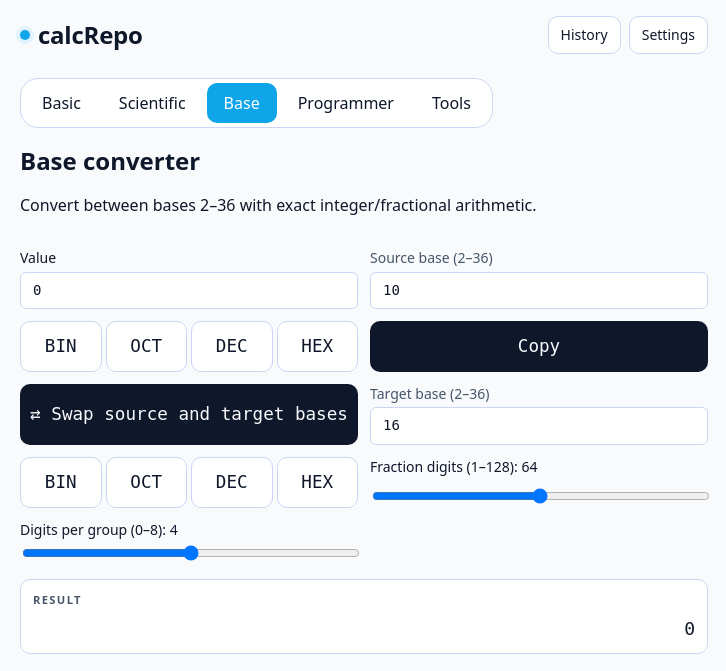
BaseView › swaps source and target bases
Click the tab "Base" at (242, 103), box [207,83,277,123]
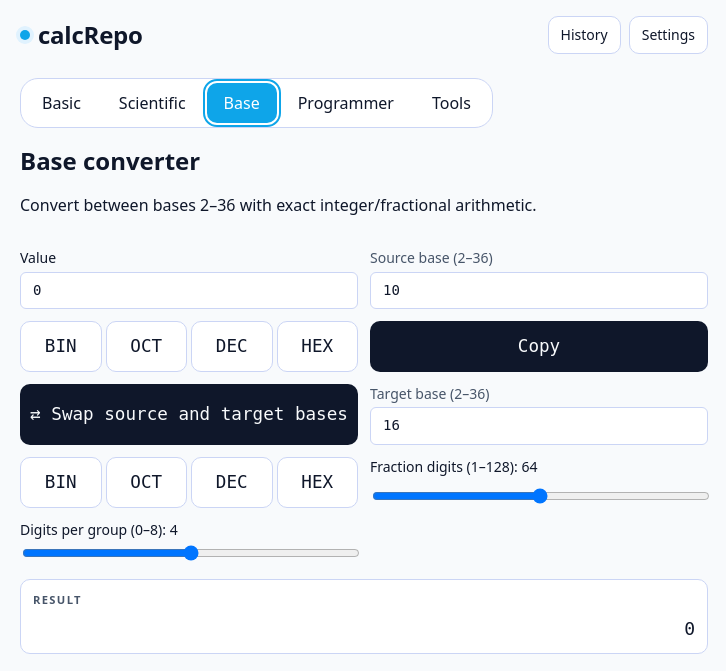
Replace the text in the field with test id "base-input" with "255" at (189, 290), box [20,272,358,309]
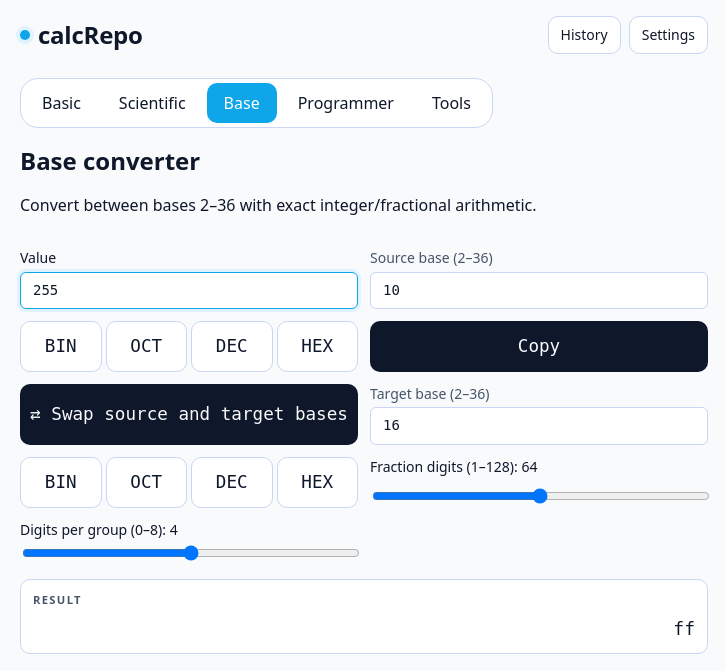
Expected: the field with test id "base-target" holds "16", [370,407,708,445]
Expected: the field with test id "base-source" holds "10", [370,272,708,309]
Click the button with test id "base-swap" at (189, 414), box [20,384,358,445]
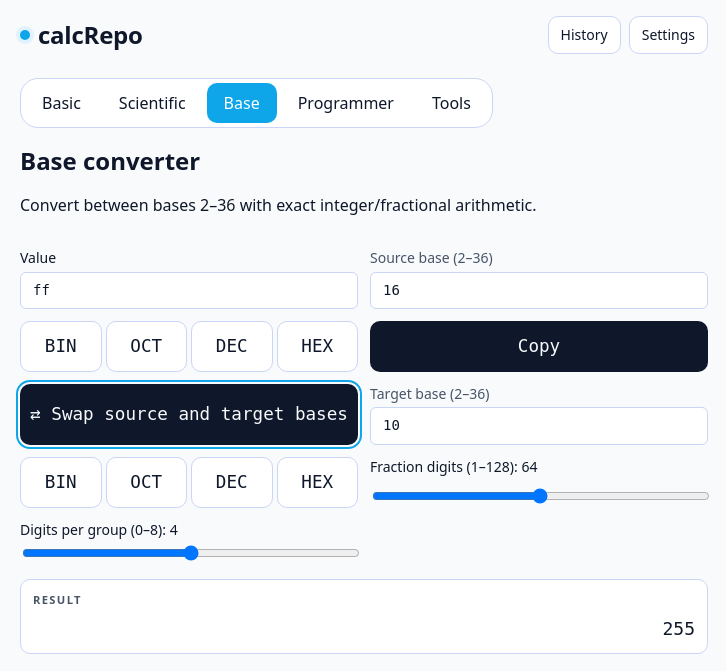
Now the field with test id "base-source" holds "16", box [370,272,708,309]
Now the field with test id "base-target" holds "10", box [370,407,708,445]
